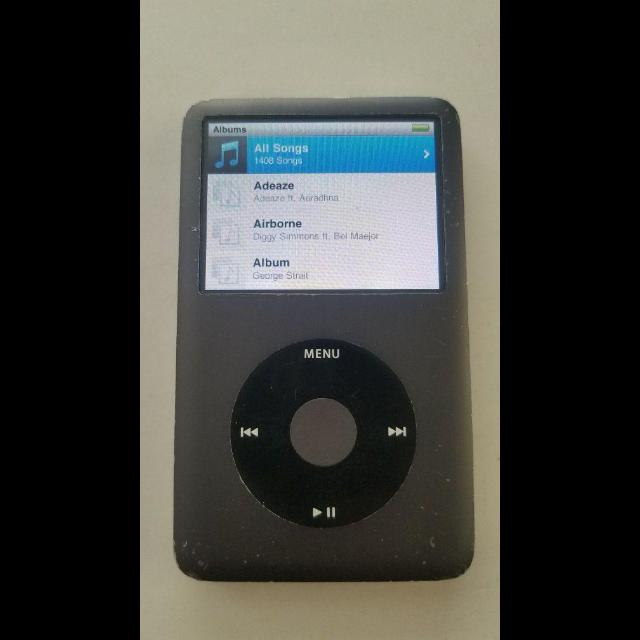Music-Player: (167, 80, 489, 590)
